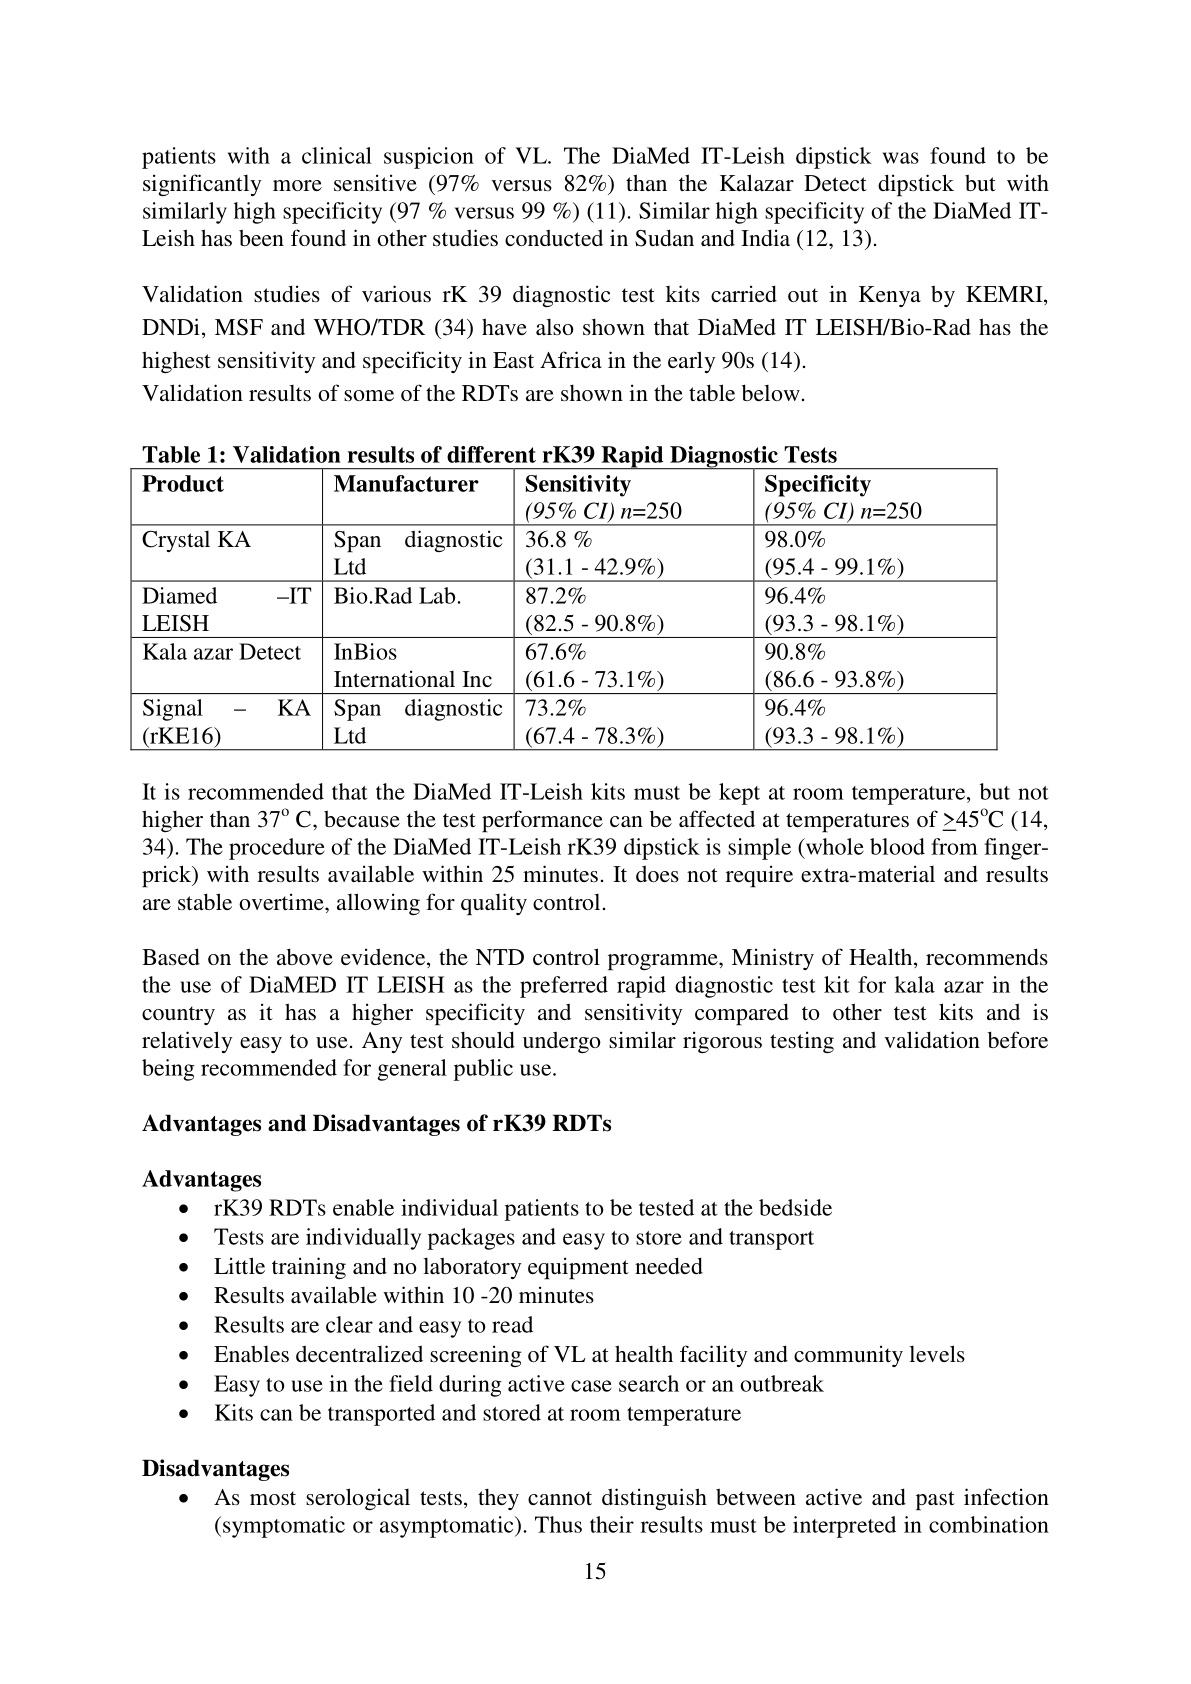full_lined: (130, 466, 999, 751)
